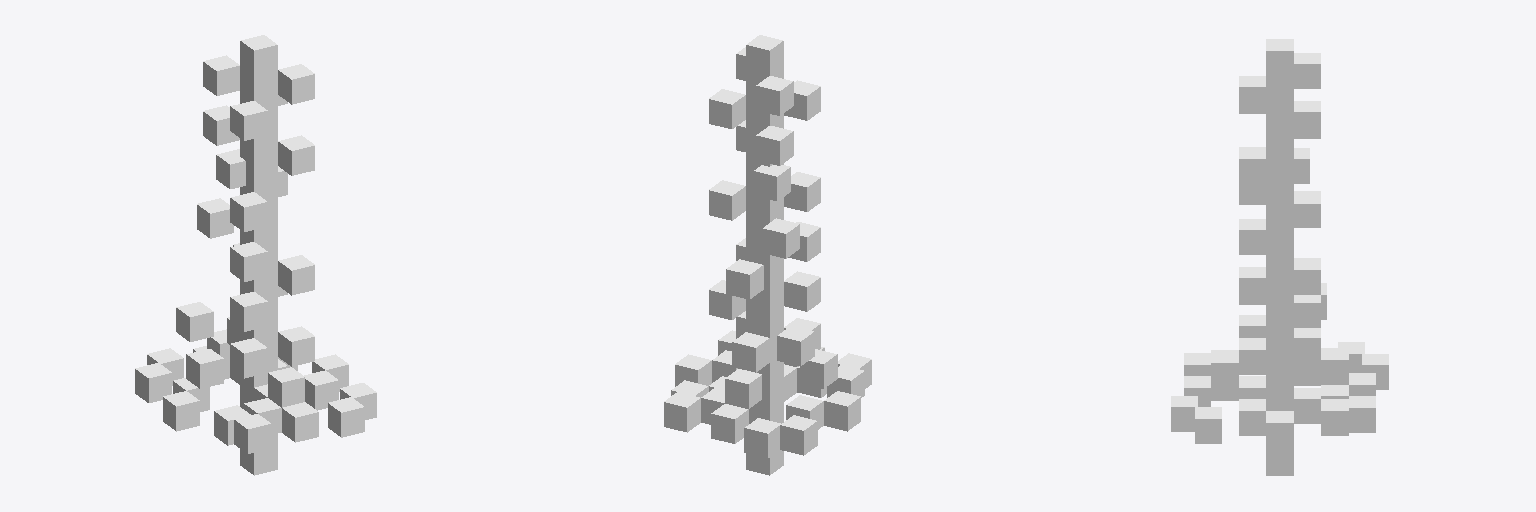
File: large_spruce.obj
3 renders of one model, left to right at view 1: azimuth 30°, elevation 25°; view 2: azimuth 150°, elevation 25°; view 3: azimuth 270°, elevation 25°, orthographic.
Parts seen in each view (by area): view 1: object 1; view 2: object 1; view 3: object 1.
Part boxes in pixels (left/top/right/bottom): object 1: left=135, top=35, right=376, bottom=475; object 1: left=664, top=35, right=871, bottom=475; object 1: left=1171, top=39, right=1388, bottom=475.
Size of the model in its own units: 10.9 by 25.6 by 11.9.